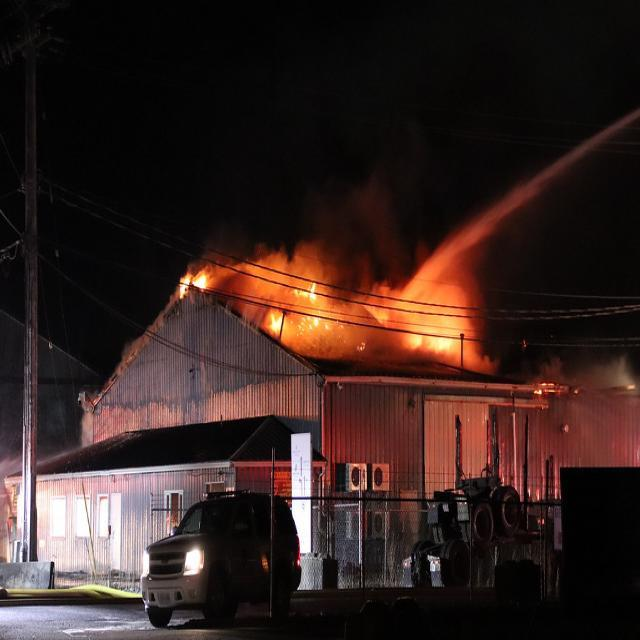Fire: (167, 207, 507, 367)
